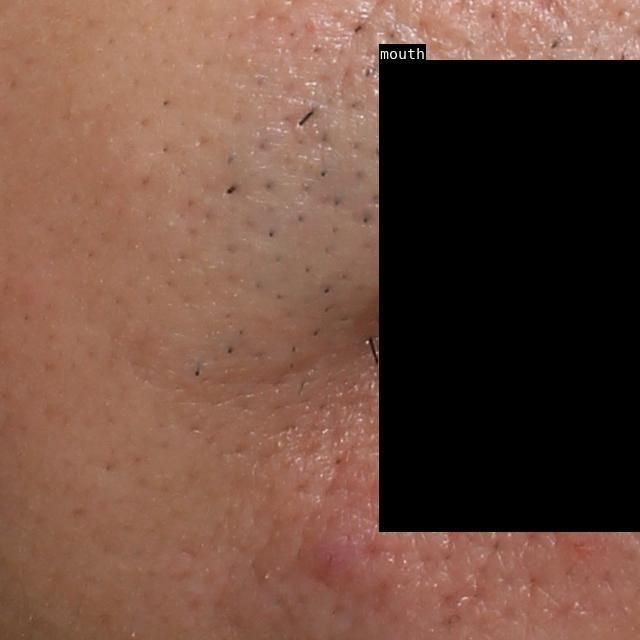papule: (297, 520, 365, 581)
